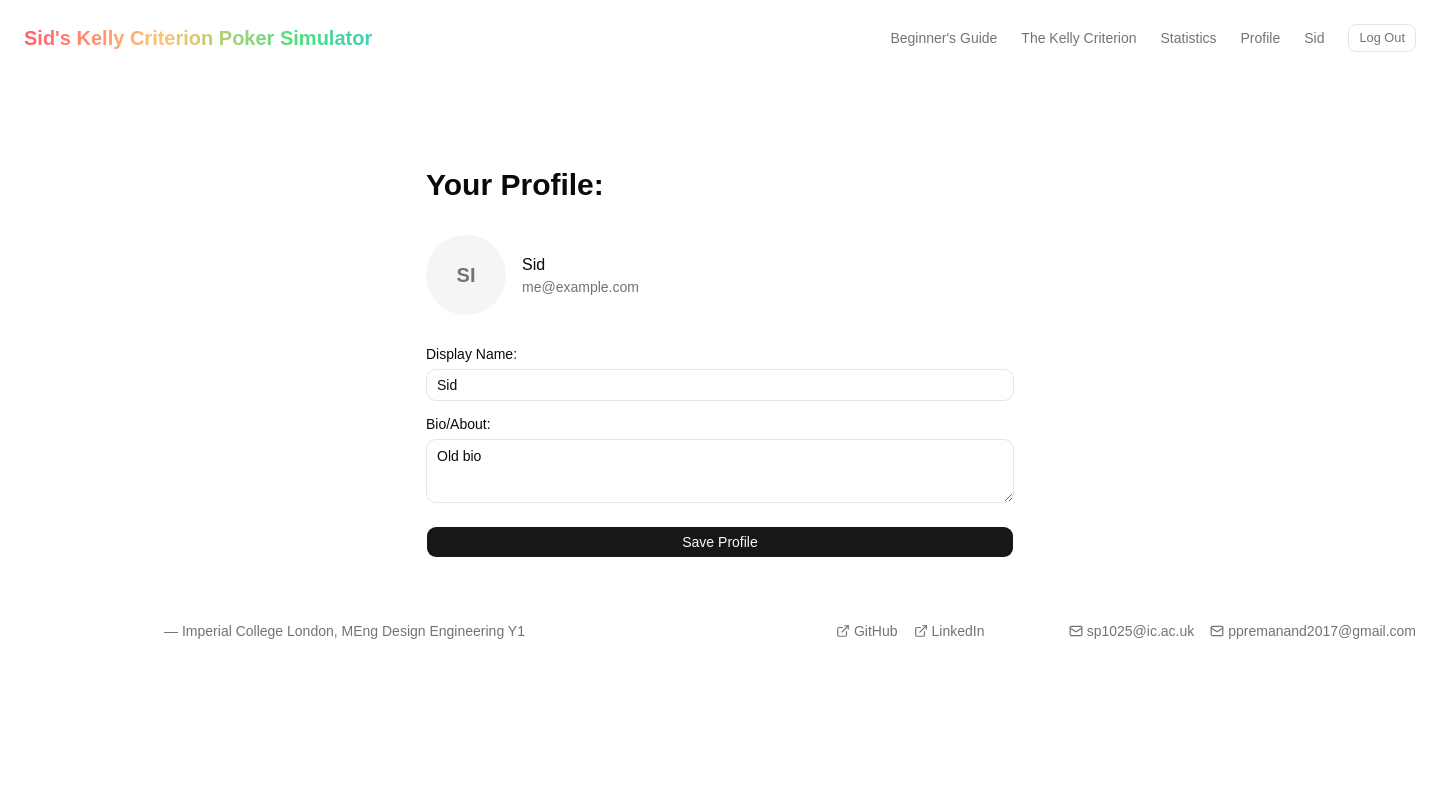
Scenario: ProfilePage › shows an error message if saving fails
Click the button "Save Profile" at [720, 542], box [426,526,1014,558]
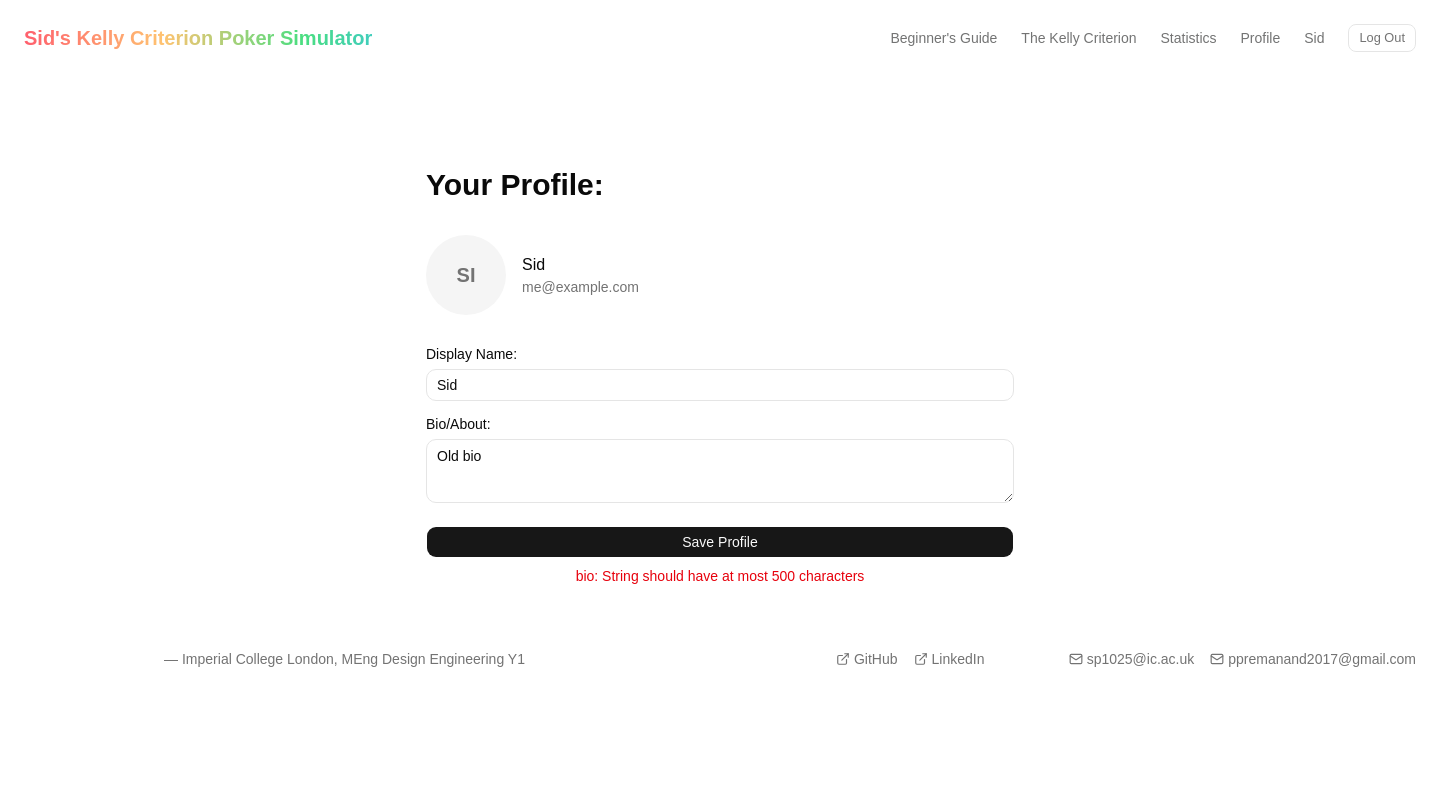
Now the text "bio: String should have at most 500 characters" is shown, box [576,566,864,586]
